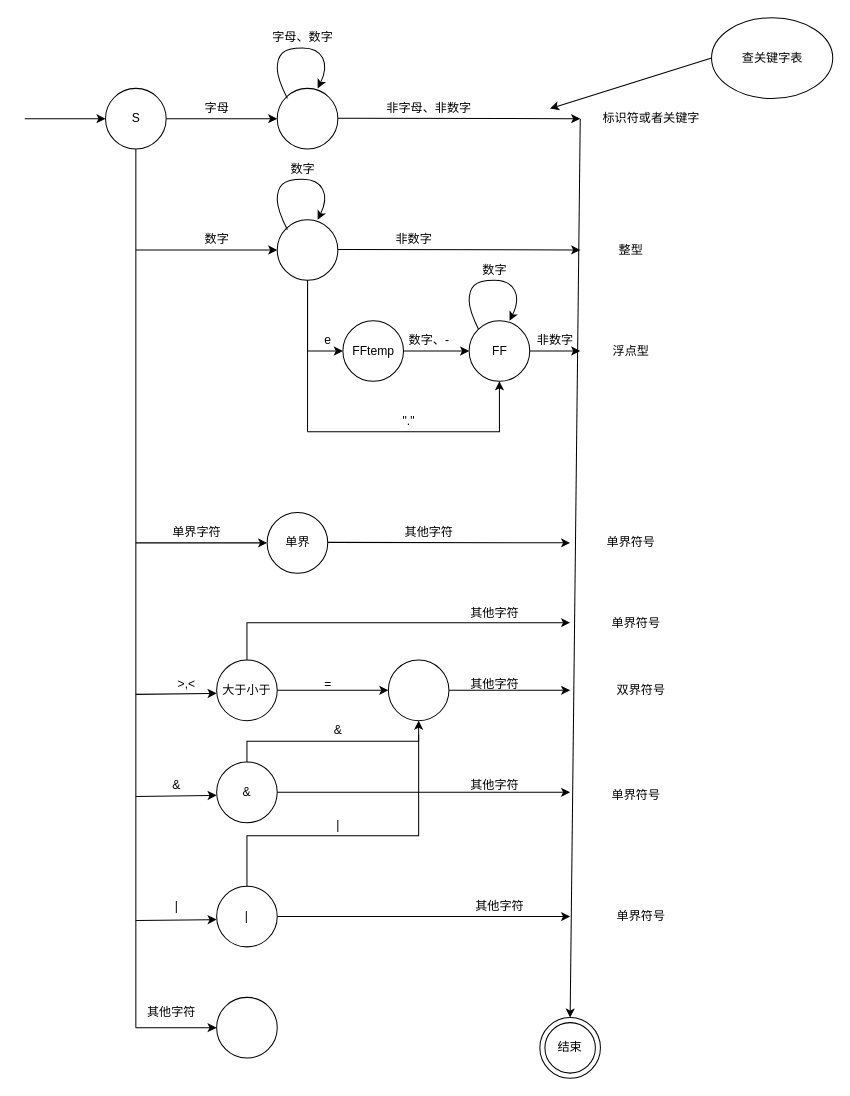
Some shapes in this 850 by 1096 pixel diagram are drawn without their labels. Each missing label, with the centre of its shape:
"Error！" belongs at (246,1027).
"ID/KW" belongs at (307,118).
"INT" belongs at (307,249).
"双界" belongs at (418,690).
